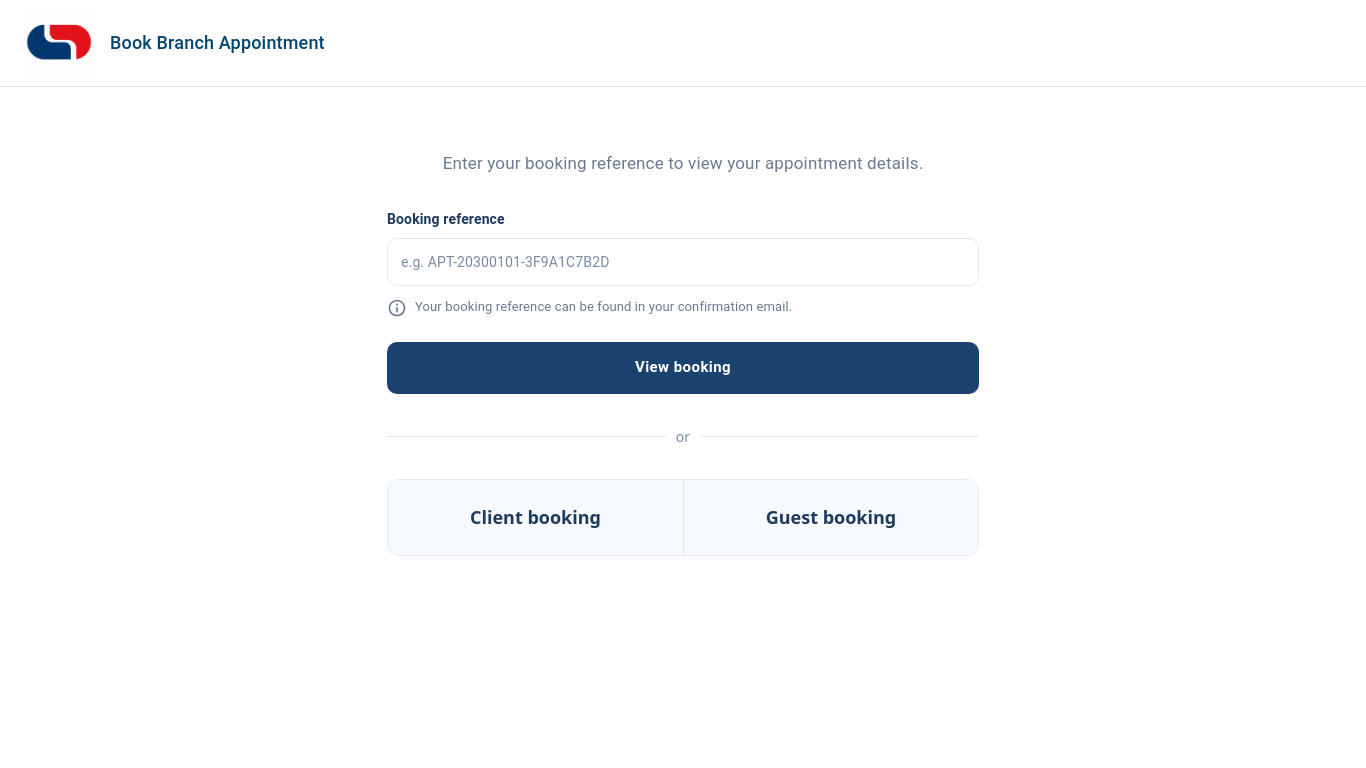
Test: IndexScreen › shows a not-found message inline and stays on the screen
Type "APT-20300101-3F9A1C7B2D" into the field labelled "Booking reference".
click(683, 261); type("APT-20300101-3F9A1C7B2D")  # box [387,235,979,288]
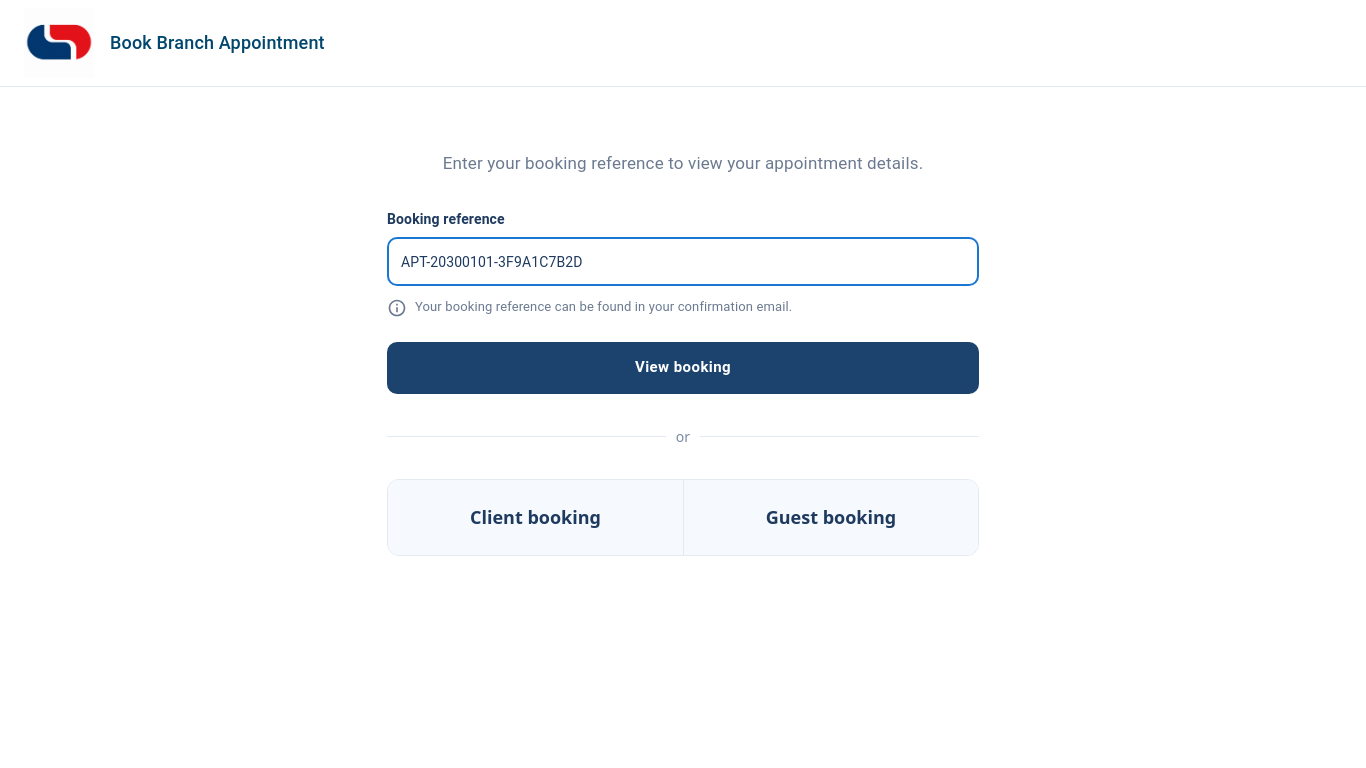
Click the button "View booking".
click(683, 368)  # box [387,342,979,394]
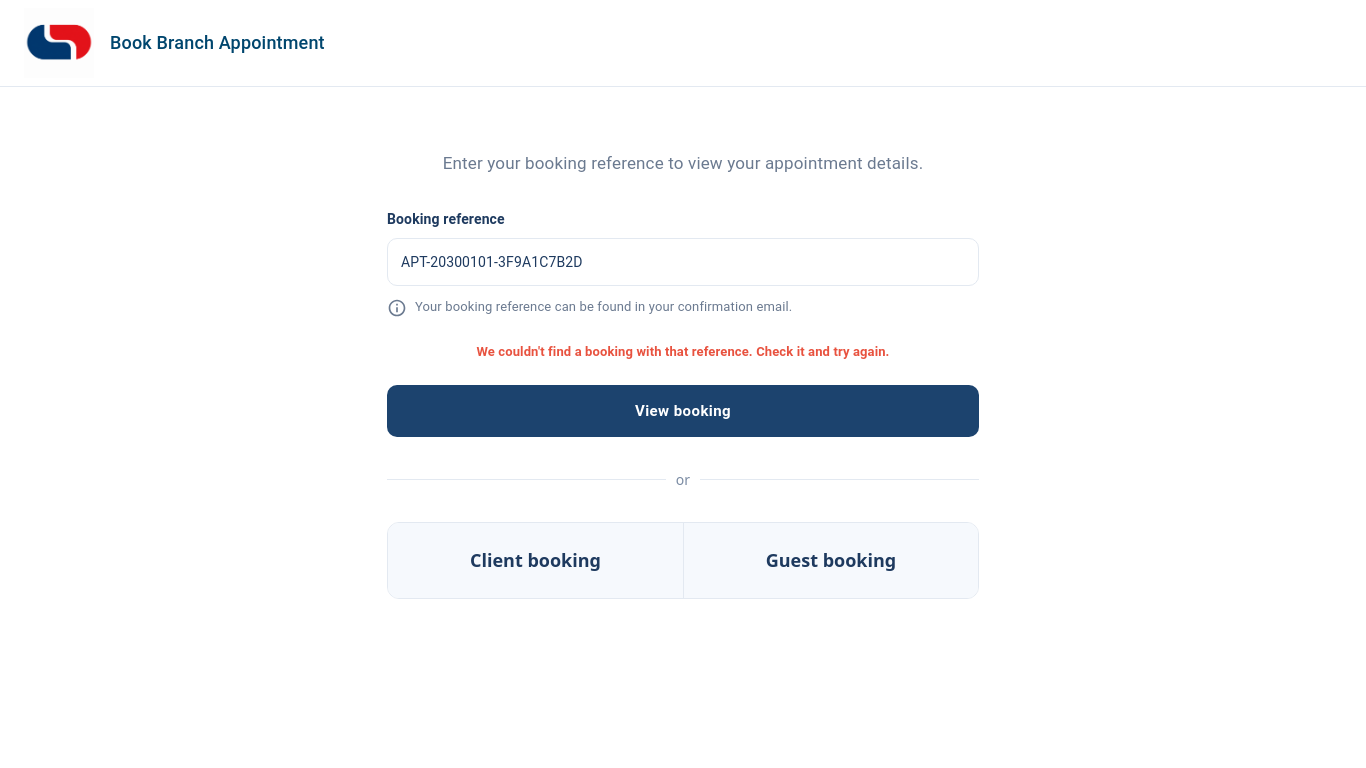
Check: the button "View booking" is enabled, box [387,385,979,437]
Check: the text "We couldn't find a booking with that reference. Check it and try again." is shown, box [476,344,890,358]
